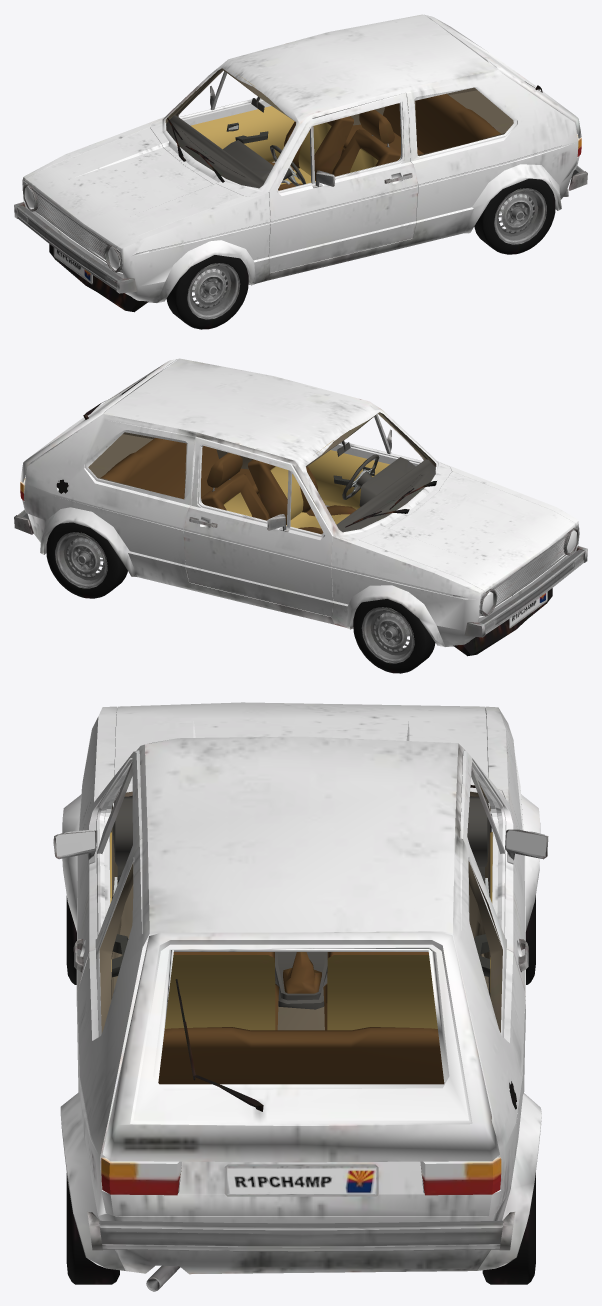
File: golfcart.glb
3 views of the same model, one above another, from view 1: azimuth 30°, elevation 25°; view 2: azimuth 150°, elevation 25°; view 3: azimuth 270°, elevation 25° (orthographic). The views are drawn at different scales.
Visible parts, largest first — view 1: Object_3, Object_4, wheel_3, wheel_2; view 2: Object_3, Object_4, wheel_1, wheel_0; view 3: Object_3, Object_4, wheel_2, wheel_0, Object_5.
Part boxes in pixels (bbox=[...]): Object_3: bbox=[14, 14, 587, 312]; Object_4: bbox=[165, 68, 513, 190]; wheel_3: bbox=[166, 255, 248, 329]; wheel_2: bbox=[474, 178, 555, 254]; Object_3: bbox=[14, 358, 587, 656]; Object_4: bbox=[88, 412, 436, 534]; wheel_1: bbox=[353, 599, 435, 673]; wheel_0: bbox=[46, 522, 127, 598]; Object_3: bbox=[53, 702, 548, 1291]; Object_4: bbox=[99, 785, 502, 1178]; wheel_2: bbox=[66, 1173, 119, 1284]; wheel_0: bbox=[482, 1173, 535, 1284]; Object_5: bbox=[55, 830, 547, 856].
Size of the model in its own units: 386 by 139 by 175.
3 materials, 2 textured.
